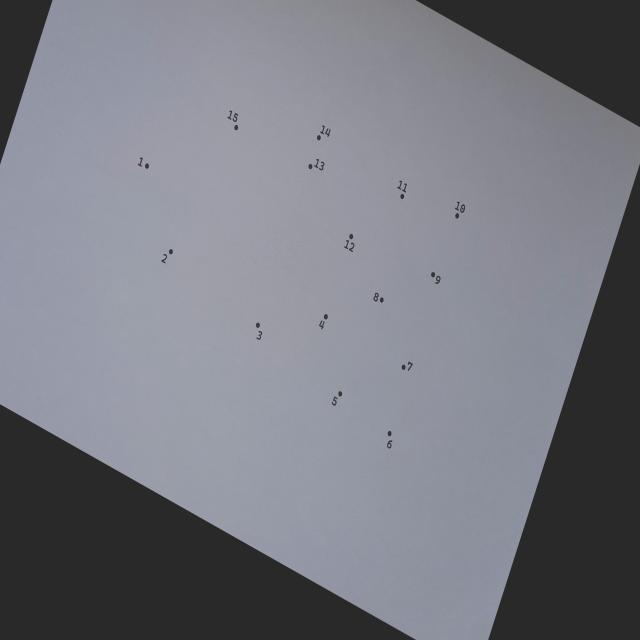Dot: (144, 163, 150, 169), (308, 163, 313, 170), (349, 233, 354, 240), (234, 124, 238, 131), (387, 431, 392, 436), (317, 135, 321, 141), (455, 212, 459, 218), (431, 272, 435, 278), (380, 297, 384, 303), (256, 322, 260, 328), (324, 314, 328, 320), (402, 364, 406, 370), (338, 391, 342, 397), (400, 194, 404, 199), (169, 249, 173, 254)
DotNumber: (227, 110, 239, 131), (317, 124, 331, 141), (308, 158, 325, 171), (454, 201, 466, 219), (344, 233, 354, 253), (161, 248, 173, 264), (397, 180, 407, 199), (137, 156, 150, 170), (319, 313, 328, 330), (255, 322, 263, 341), (332, 391, 342, 406), (373, 292, 384, 304), (401, 361, 413, 372), (431, 271, 441, 284), (387, 430, 393, 449)
Number: (320, 124, 331, 138), (314, 158, 325, 171), (228, 110, 238, 123), (397, 180, 407, 193), (455, 201, 465, 213), (344, 240, 354, 252), (256, 330, 263, 340), (373, 292, 379, 302), (162, 254, 168, 264), (319, 320, 325, 330), (407, 361, 413, 371), (332, 396, 338, 406), (138, 157, 143, 167), (435, 276, 441, 284), (387, 440, 392, 449)
